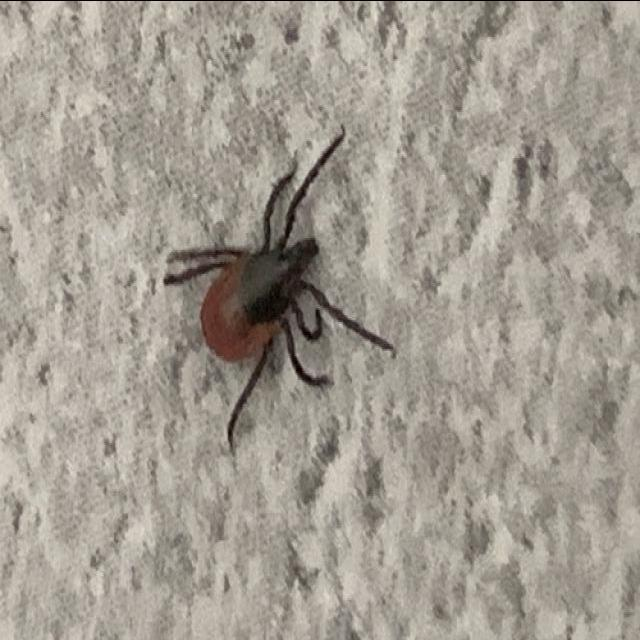Ixodes Ricinus-F: (165, 130, 397, 435)
